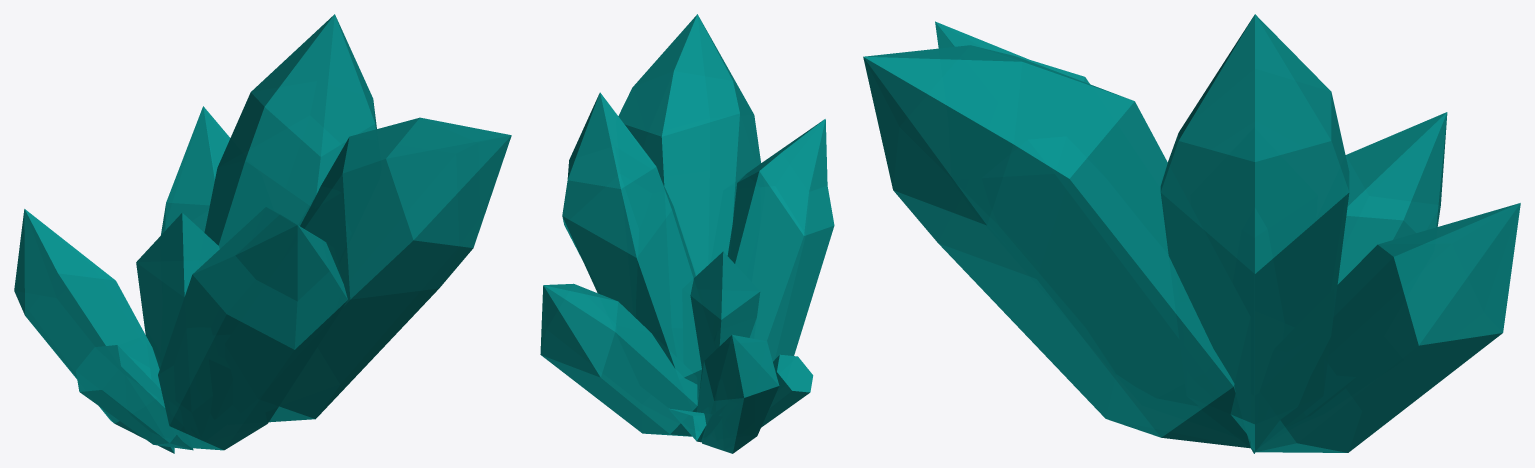
File: kristal4.fbx
3 views of the same model, side by side, from view 1: azimuth 30°, elevation 25°; view 2: azimuth 150°, elevation 25°; view 3: azimuth 270°, elevation 25° (orthographic). The views are drawn at different scales.
Visible parts, largest first — view 1: pCone34; view 2: pCone34; view 3: pCone34.
Part boxes in pixels (x1,y1,x2,y2): pCone34: (14, 14, 511, 453); pCone34: (540, 14, 834, 453); pCone34: (863, 14, 1520, 453).
Size of the model in its own units: 6.1 by 7.41 by 8.32.
